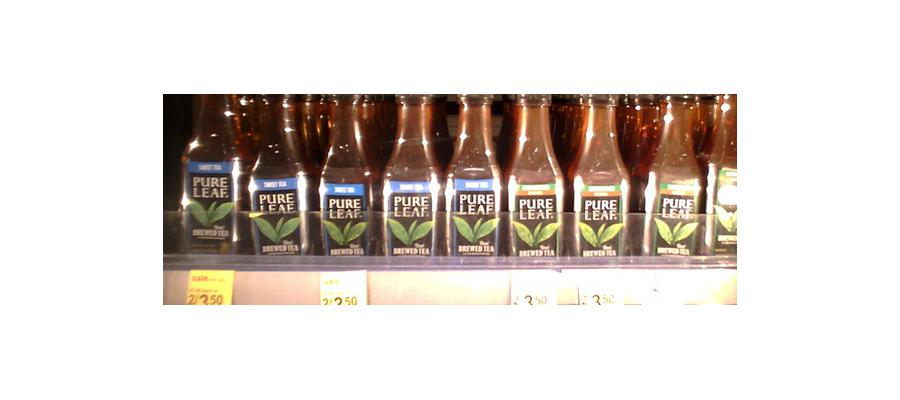bottle: (245, 85, 312, 254), (568, 90, 632, 263), (379, 88, 443, 261), (503, 89, 566, 264), (639, 87, 703, 258), (443, 90, 504, 260), (317, 88, 378, 256), (180, 89, 241, 255), (703, 85, 740, 249)
